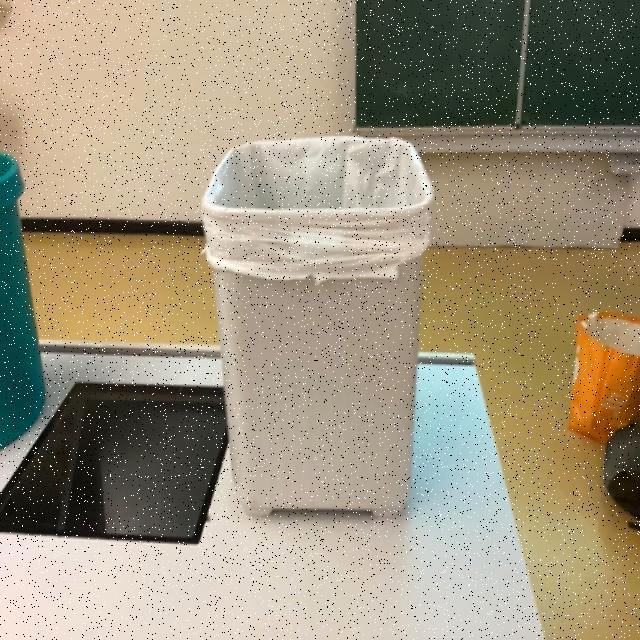garbage container: (204, 112, 441, 539), (0, 118, 41, 454)
